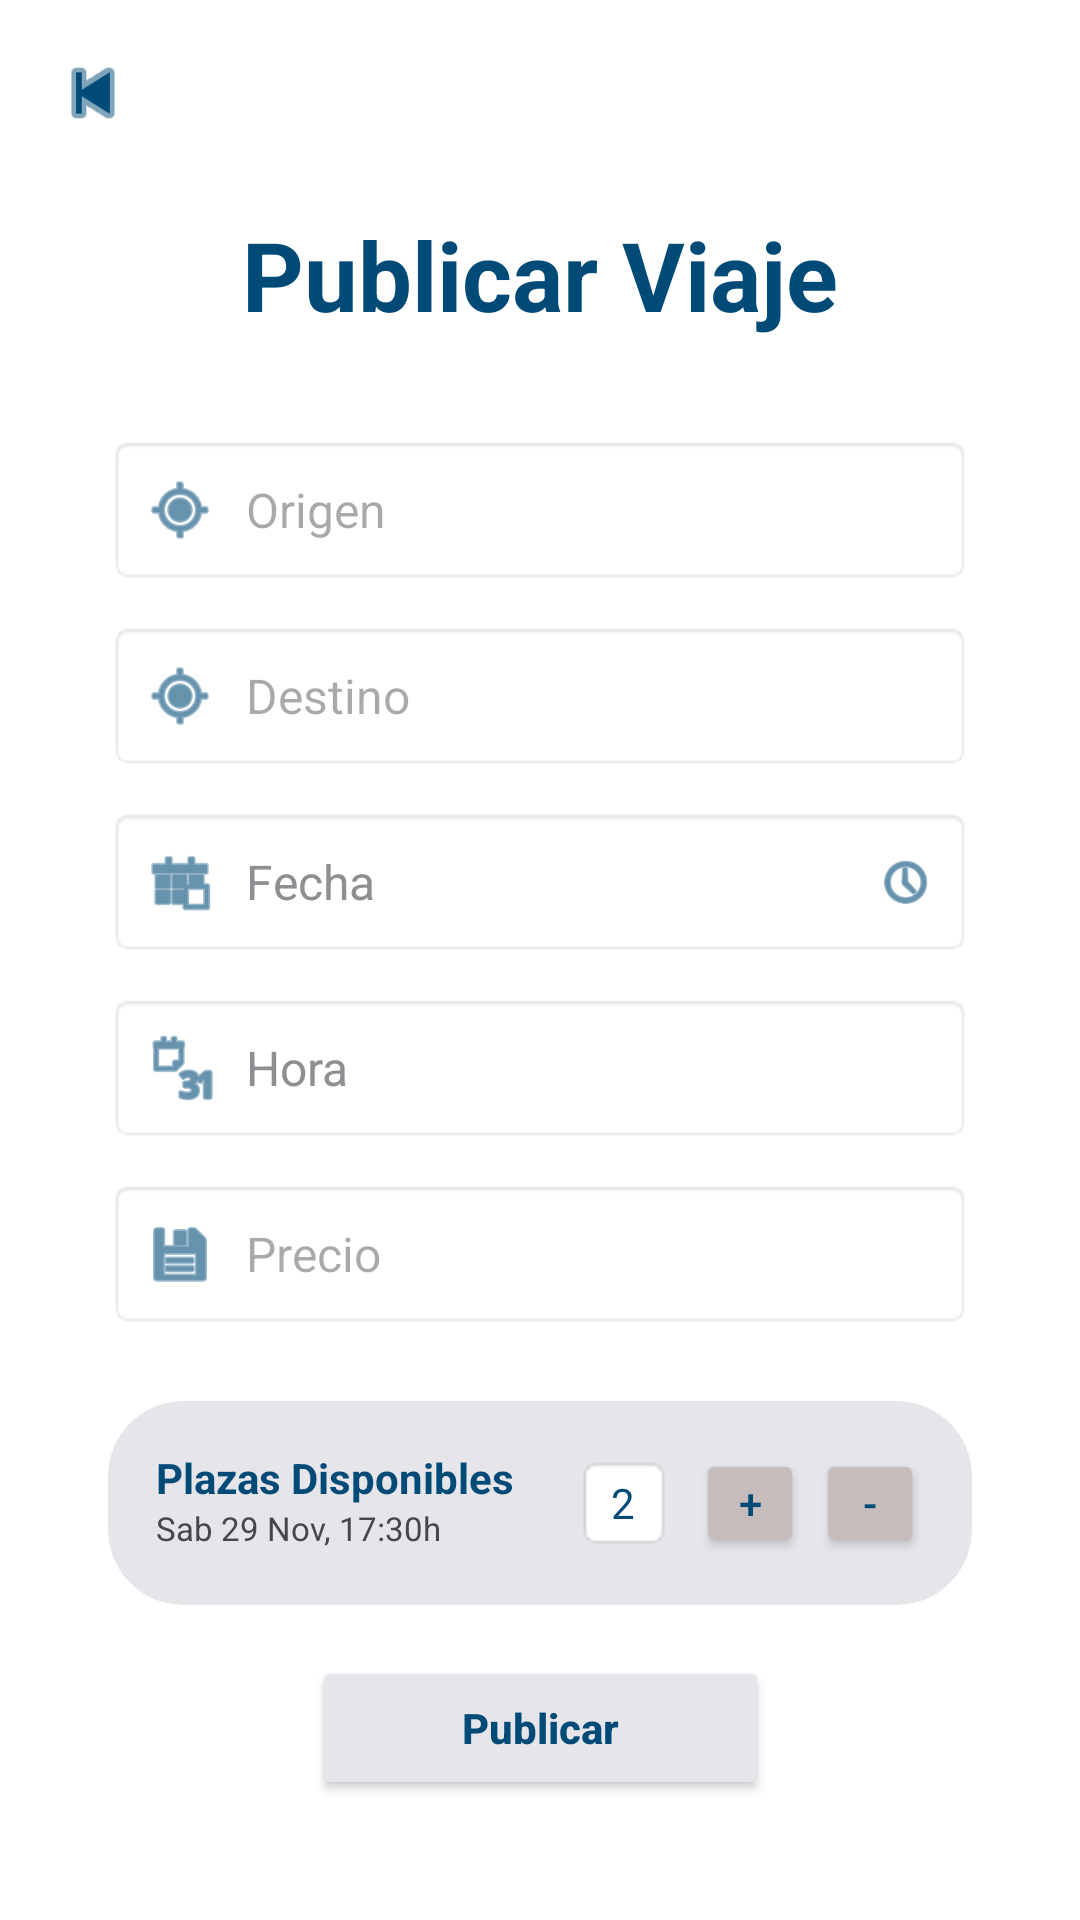

Where icons sit on this 1080w x 1920h app screen, as (x1, y1, x2, y2):
mylocation: (151, 481, 209, 539), (151, 667, 209, 725)
previous: (71, 67, 115, 119)
recent history: (884, 861, 927, 904)
save: (153, 1227, 207, 1282)
